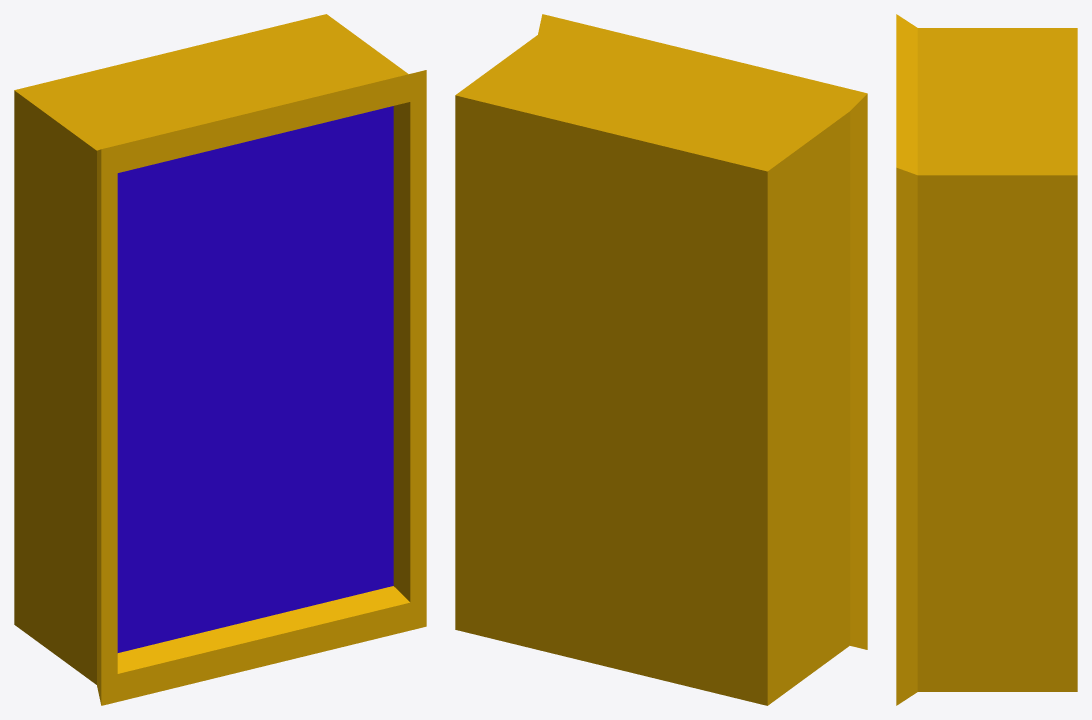
Rendered from Window.fbx.
The picture shows the model from 3 angles, left to right: view 1: azimuth 30°, elevation 25°; view 2: azimuth 150°, elevation 25°; view 3: azimuth 270°, elevation 25°; orthographic projection. The views are drawn at different scales.
Visible parts, largest first — view 1: Cube.021; view 2: Cube.021; view 3: Cube.021.
Boxes of the visible parts, x1,y1,x2,y2 form: Cube.021: (14, 14, 426, 705); Cube.021: (455, 14, 867, 705); Cube.021: (896, 14, 1077, 705).
Bounding box in the file's own units: 255 × 417 × 127.
